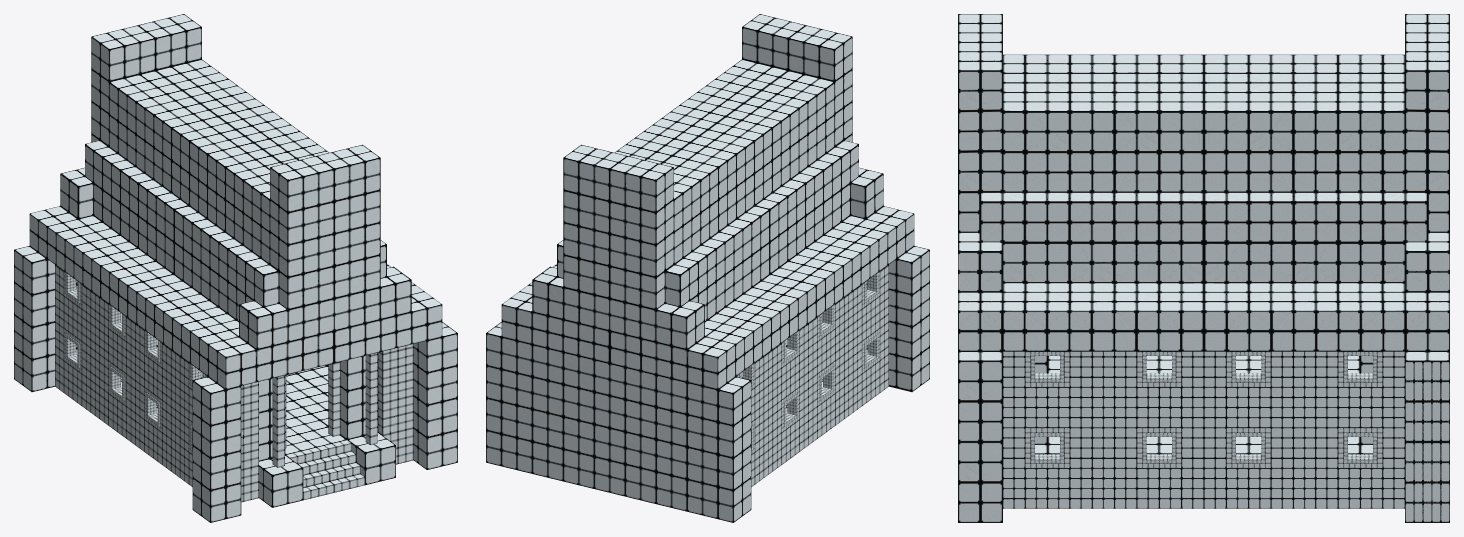
File: Church.fbx
The picture shows the model from 3 angles, left to right: view 1: azimuth 30°, elevation 25°; view 2: azimuth 150°, elevation 25°; view 3: azimuth 270°, elevation 25°; orthographic projection. The views are drawn at different scales.
Parts seen in each view (by area): view 1: polySurface583 (×4), polySurface434 (×2), polySurface587 (×2), polySurface588 (×2), polySurface447 (×2), KirchenWand, polySurface437 (×2), polySurface445 (×2), polySurface589, polySurface441 (×2), polySurface442 (×2), polySurface590; view 2: polySurface583 (×4), KirchenWand, polySurface587 (×2), polySurface588 (×2), polySurface434; view 3: polySurface583 (×4), polySurface587 (×2), polySurface588 (×2), polySurface434, KirchenWand, polySurface589 (×4).
Part boxes in pixels (box(x1,y1,x2,y2)): polySurface583 (×4): box(29, 14, 442, 389); polySurface434 (×2): box(192, 322, 457, 522); polySurface587 (×2): box(90, 291, 179, 477); polySurface588 (×2): box(55, 265, 207, 486); polySurface447 (×2): box(241, 344, 413, 502); KirchenWand: box(14, 246, 77, 391); polySurface437 (×2): box(259, 432, 395, 507); polySurface445 (×2): box(259, 353, 378, 461); polySurface589: box(286, 366, 346, 447); polySurface441 (×2): box(286, 440, 364, 500); polySurface442 (×2): box(272, 353, 377, 467); polySurface590: box(325, 362, 340, 436); polySurface583 (×4): box(501, 14, 914, 389); KirchenWand: box(486, 322, 751, 522); polySurface587 (×2): box(764, 291, 853, 477); polySurface588 (×2): box(736, 265, 888, 486); polySurface434: box(889, 246, 929, 391); polySurface583 (×4): box(958, 14, 1449, 351); polySurface587 (×2): box(1092, 351, 1315, 508); polySurface588 (×2): box(1003, 351, 1404, 508); polySurface434: box(958, 351, 1002, 522); KirchenWand: box(1405, 351, 1449, 522); polySurface589 (×4): box(1035, 356, 1372, 454).
Size of the model in its own units: 8 by 10 by 11.
Materials: 1 (1 with a texture image).
